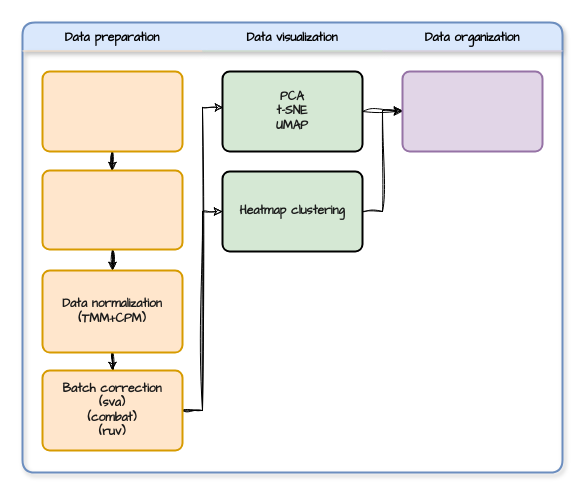
This 586x497 diagram has some shape labels left out. The shapes that lost their labels are listed below. From the top down, each one's centre as x and y in pixels, then its label:
the point at 112,111: Data acquisition
the point at 472,111: Powerpoint presentation
the point at 112,209: Data preprocessing
